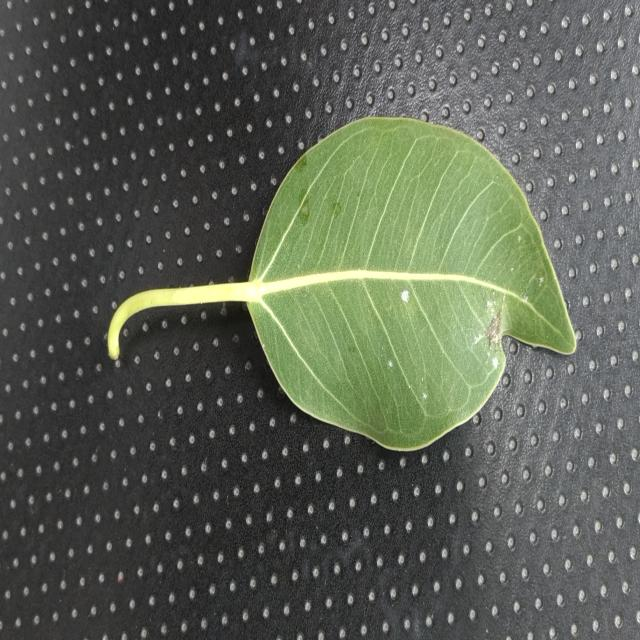camphor: (242, 118, 575, 449)
defected camphor: (465, 278, 509, 376)
